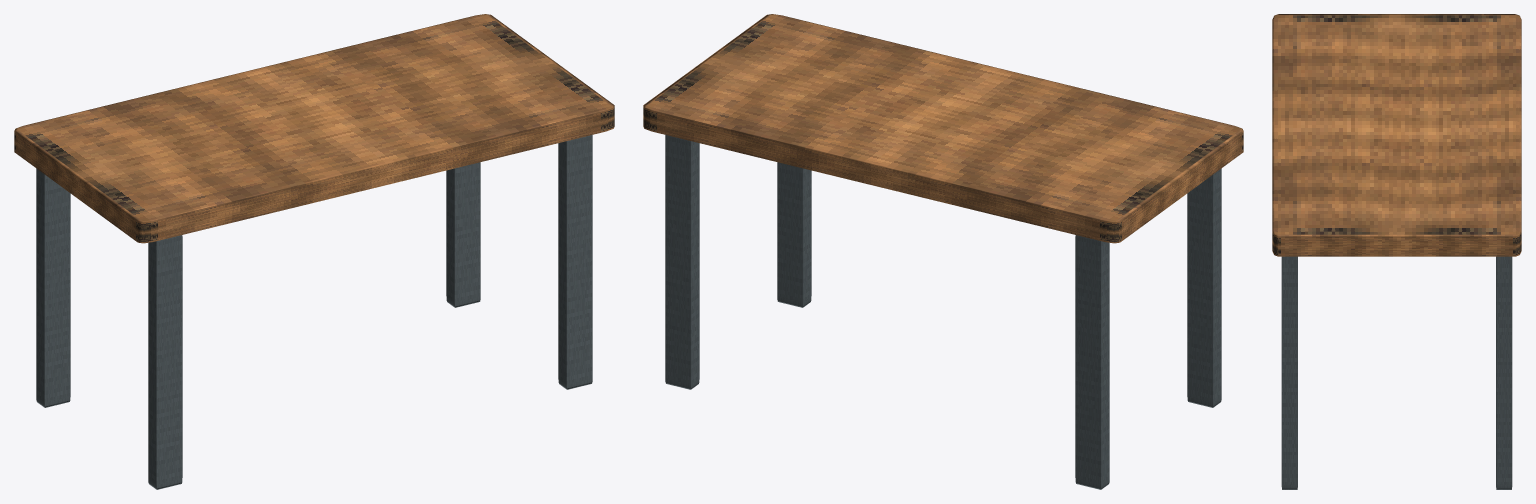
The model's file is island.glb.
3 views of the same model, side by side, from view 1: azimuth 30°, elevation 25°; view 2: azimuth 150°, elevation 25°; view 3: azimuth 270°, elevation 25° (orthographic). The views are drawn at different scales.
Parts seen in each view (by area): view 1: top, leg (×4); view 2: top, leg (×4); view 3: top, leg (×2).
Part boxes in pixels (x1,y1,x2,y2): top: [14, 14, 614, 243]; leg (×4): [36, 135, 592, 489]; top: [643, 14, 1243, 243]; leg (×4): [665, 135, 1221, 489]; top: [1272, 14, 1521, 256]; leg (×2): [1281, 256, 1512, 489].
Size of the model in its own units: 1.65 by 0.91 by 0.78.
2 materials, 2 textured.
